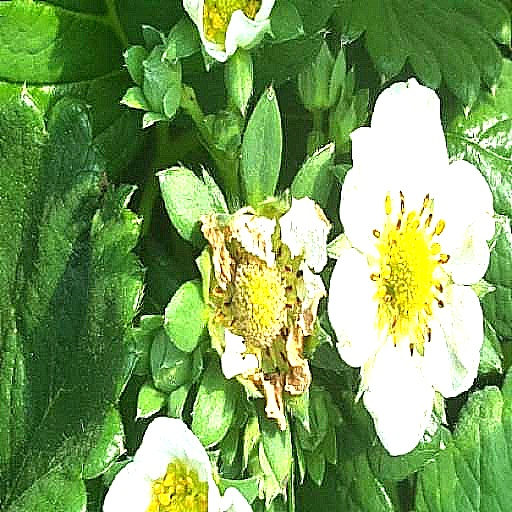Blossom Blight: (58, 188, 145, 359), (204, 229, 303, 379)
